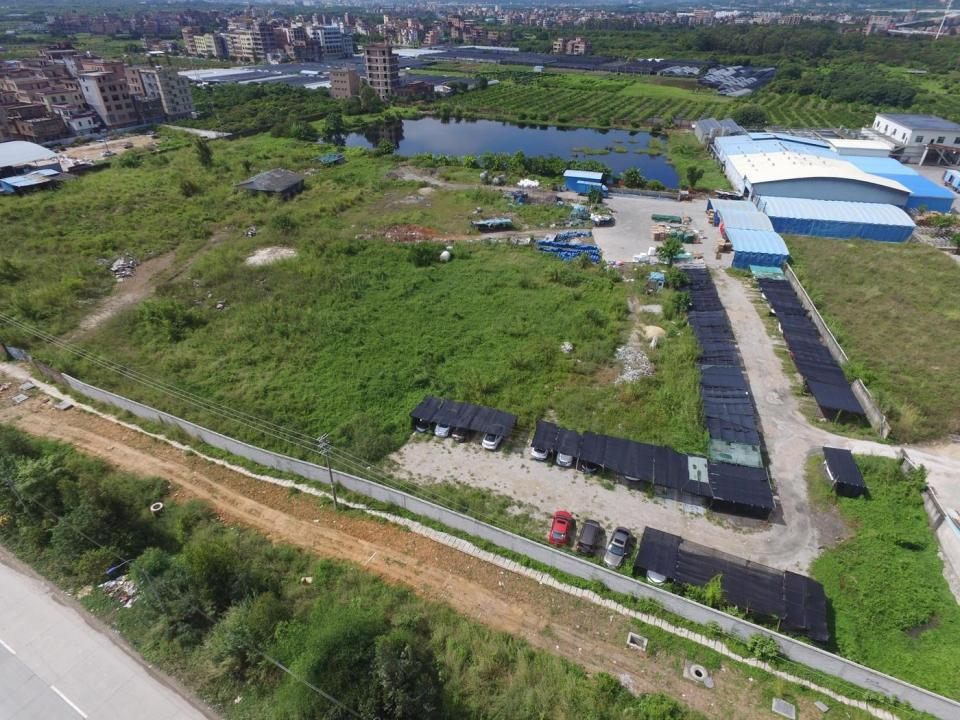car: (604, 525, 630, 569), (574, 519, 600, 558), (549, 510, 573, 547), (646, 552, 671, 587), (625, 448, 644, 484), (533, 428, 553, 462), (435, 408, 458, 437), (483, 421, 506, 450), (452, 415, 476, 442), (416, 401, 436, 433), (558, 434, 576, 466), (583, 441, 600, 474), (101, 151, 114, 157), (46, 148, 58, 154)
truck: (576, 181, 609, 198), (943, 168, 960, 193), (121, 140, 132, 148), (147, 132, 158, 138)
